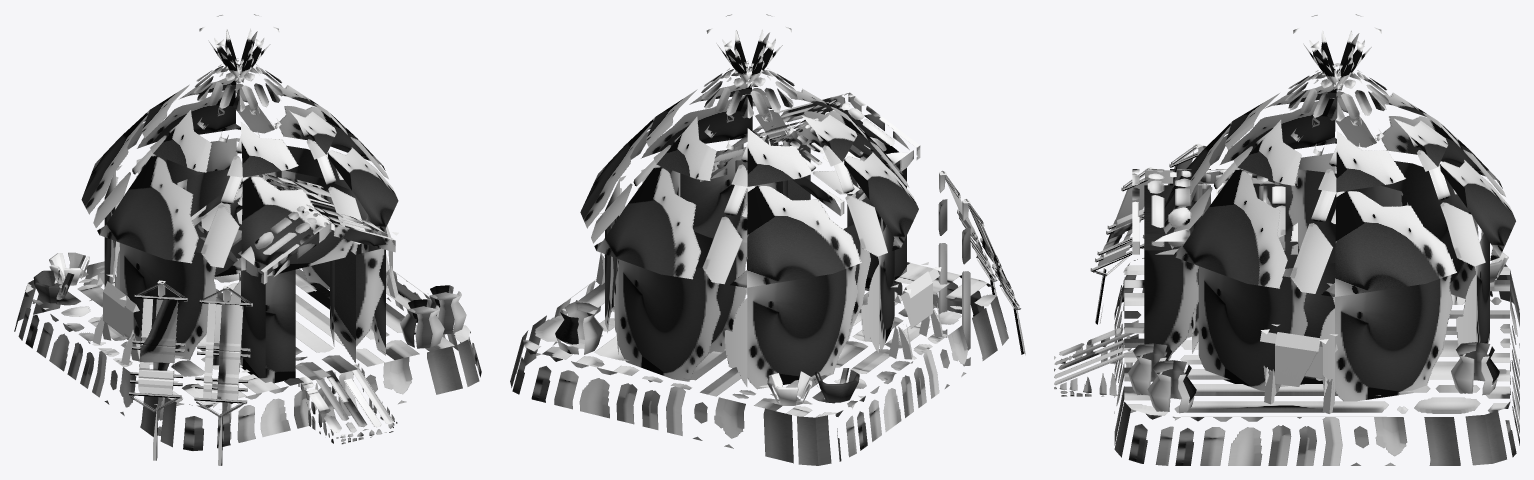
File: house_3.dae
3 renders of one model, left to right at view 1: azimuth 30°, elevation 25°; view 2: azimuth 150°, elevation 25°; view 3: azimuth 270°, elevation 25°, orthographic. The views are drawn at different scales.
Parts seen in each view (by area): view 1: house_3; view 2: house_3; view 3: house_3.
Boxes of the visible parts, bbox=[...] form: house_3: bbox=[14, 14, 481, 465]; house_3: bbox=[510, 14, 1025, 465]; house_3: bbox=[1054, 14, 1519, 465].
Size of the model in its own units: 13.72 by 14.68 by 12.7.
